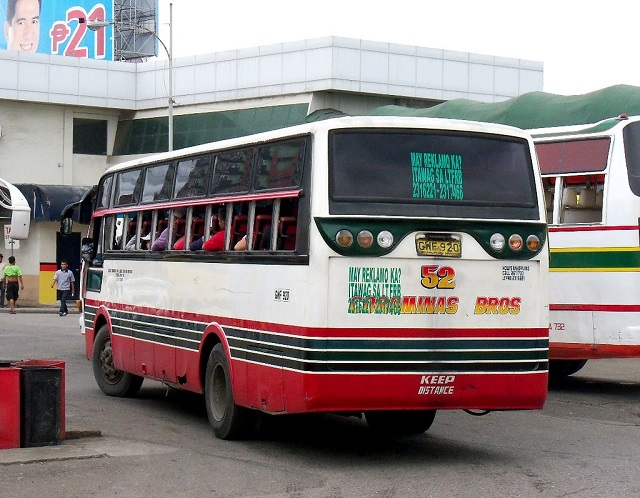bus: (82, 115, 548, 424), (538, 118, 640, 357)
person: (50, 257, 75, 317), (5, 257, 25, 313)
pole: (169, 2, 173, 151)
